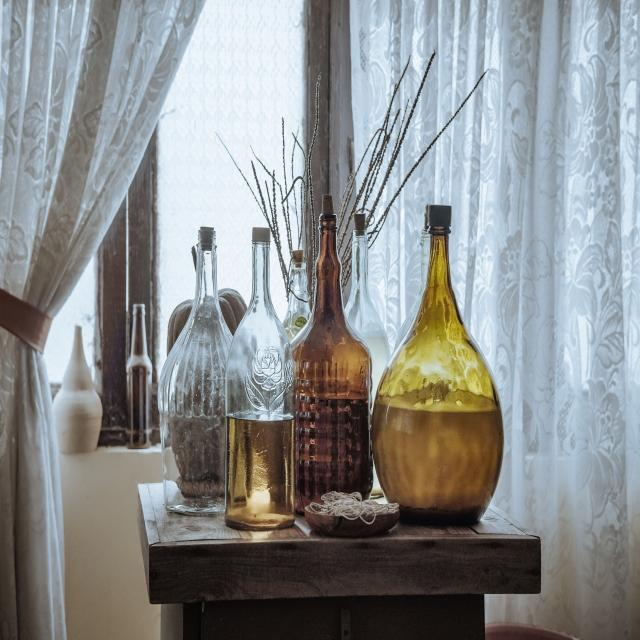Bottle: (372, 206, 503, 523), (293, 196, 372, 510), (225, 228, 294, 530), (159, 227, 231, 514), (345, 214, 389, 394), (395, 211, 429, 349), (127, 304, 152, 448), (284, 250, 310, 339)
